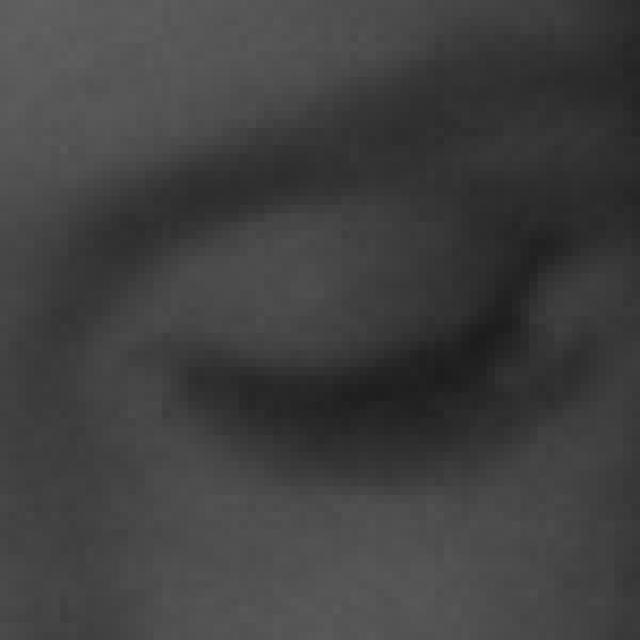Eyeclosed: (195, 210, 584, 520)
